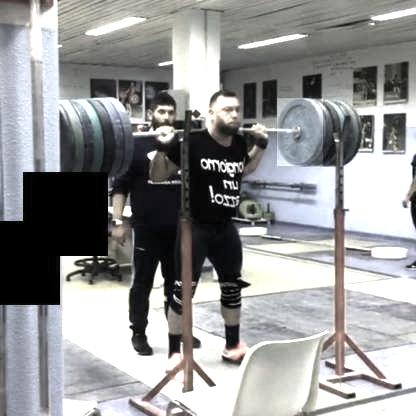barbell: (276, 98, 321, 167)
